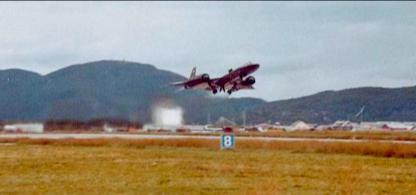Rafale: (169, 59, 262, 94)
